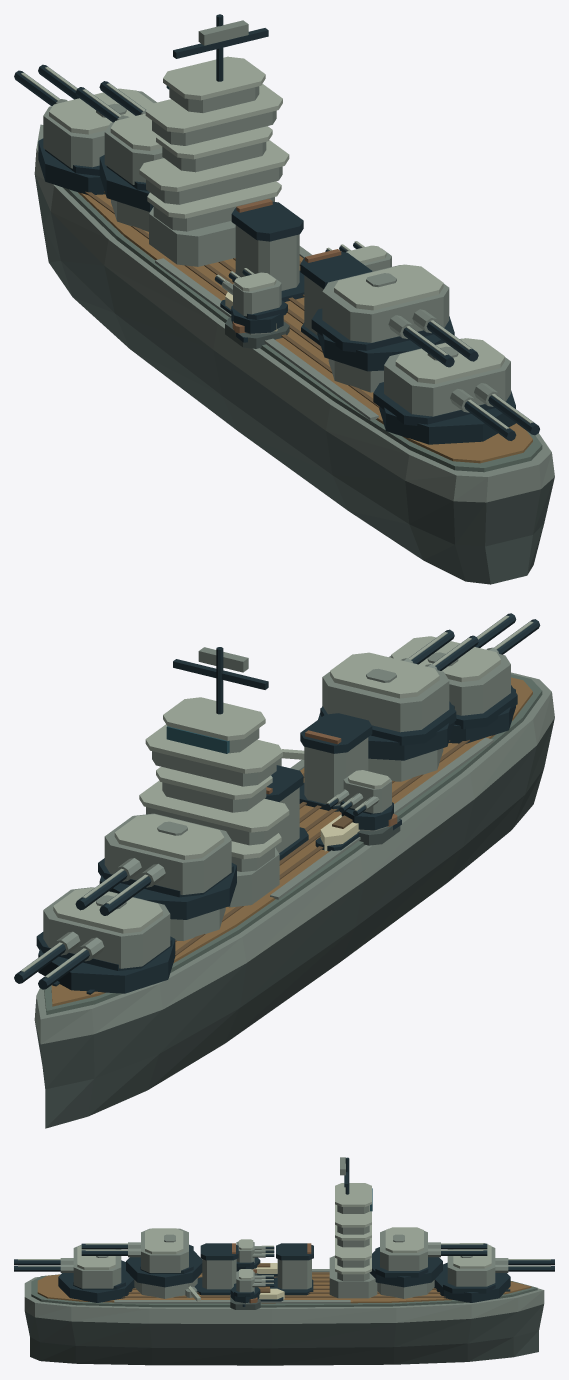
Rendered from historic-kongo.glb.
The picture shows the model from 3 angles, top to bottom: view 1: azimuth 30°, elevation 25°; view 2: azimuth 150°, elevation 25°; view 3: azimuth 270°, elevation 25°; orthographic projection. The views are drawn at different scales.
Visible parts, largest first — view 1: historic-kongo-historic-kongo-geometry, historic-kongo-part_bridge.023-geometry, historic-kongo-turret_main_3.009-geometry, historic-kongo-turret_main_2.017-geometry, historic-kongo-turret_main_0.018-geometry, historic-kongo-turret_main_1.017-geometry, historic-kongo-historic_funnel_0.024-geometry, historic-kongo-turret_aa_aa-port.025-geometry, historic-kongo-historic_funnel_1.011-geometry, historic-kongo-turret_aa_aa-starboard.023-geometry, historic-kongo-part_aa-port.025-geometry; view 2: historic-kongo-historic-kongo-geometry, historic-kongo-part_bridge.023-geometry, historic-kongo-turret_main_0.018-geometry, historic-kongo-turret_main_1.017-geometry, historic-kongo-turret_main_2.017-geometry, historic-kongo-turret_main_3.009-geometry, historic-kongo-historic_funnel_1.011-geometry, historic-kongo-turret_aa_aa-port.025-geometry, historic-kongo-historic_funnel_0.024-geometry; view 3: historic-kongo-historic-kongo-geometry, historic-kongo-part_bridge.023-geometry, historic-kongo-turret_main_2.017-geometry, historic-kongo-turret_main_1.017-geometry, historic-kongo-turret_main_0.018-geometry, historic-kongo-turret_main_3.009-geometry, historic-kongo-historic_funnel_1.011-geometry, historic-kongo-historic_funnel_0.024-geometry, historic-kongo-turret_aa_aa-starboard.023-geometry, historic-kongo-turret_aa_aa-port.025-geometry.
Part boxes in pixels (box(x1,y1,x2,y2)): historic-kongo-historic-kongo-geometry: box(34, 124, 554, 584); historic-kongo-part_bridge.023-geometry: box(139, 14, 289, 266); historic-kongo-turret_main_3.009-geometry: box(373, 338, 539, 444); historic-kongo-turret_main_2.017-geometry: box(311, 264, 478, 371); historic-kongo-turret_main_0.018-geometry: box(14, 64, 156, 194); historic-kongo-turret_main_1.017-geometry: box(75, 81, 163, 211); historic-kongo-historic_funnel_0.024-geometry: box(231, 199, 304, 301); historic-kongo-turret_aa_aa-port.025-geometry: box(214, 268, 287, 333); historic-kongo-historic_funnel_1.011-geometry: box(300, 249, 372, 345); historic-kongo-turret_aa_aa-starboard.023-geometry: box(325, 241, 391, 271); historic-kongo-part_aa-port.025-geometry: box(225, 317, 289, 348); historic-kongo-historic-kongo-geometry: box(34, 672, 554, 1128); historic-kongo-part_bridge.023-geometry: box(139, 647, 289, 907); historic-kongo-turret_main_0.018-geometry: box(14, 887, 175, 993); historic-kongo-turret_main_1.017-geometry: box(75, 813, 236, 919); historic-kongo-turret_main_2.017-geometry: box(318, 629, 478, 760); historic-kongo-turret_main_3.009-geometry: box(389, 613, 540, 743); historic-kongo-historic_funnel_1.011-geometry: box(299, 713, 372, 811); historic-kongo-turret_aa_aa-port.025-geometry: box(325, 770, 393, 830); historic-kongo-historic_funnel_0.024-geometry: box(265, 765, 308, 860); historic-kongo-historic-kongo-geometry: box(24, 1263, 544, 1365); historic-kongo-part_bridge.023-geometry: box(329, 1157, 377, 1298); historic-kongo-turret_main_2.017-geometry: box(81, 1228, 202, 1287); historic-kongo-turret_main_1.017-geometry: box(369, 1227, 487, 1287); historic-kongo-turret_main_0.018-geometry: box(434, 1243, 554, 1302); historic-kongo-turret_main_3.009-geometry: box(14, 1244, 134, 1302); historic-kongo-historic_funnel_1.011-geometry: box(194, 1243, 238, 1295); historic-kongo-historic_funnel_0.024-geometry: box(270, 1243, 313, 1295); historic-kongo-turret_aa_aa-starboard.023-geometry: box(230, 1269, 274, 1303); historic-kongo-turret_aa_aa-port.025-geometry: box(236, 1239, 274, 1271).
Bounding box in the file's own units: 0.9354 × 1.97 × 4.99.
